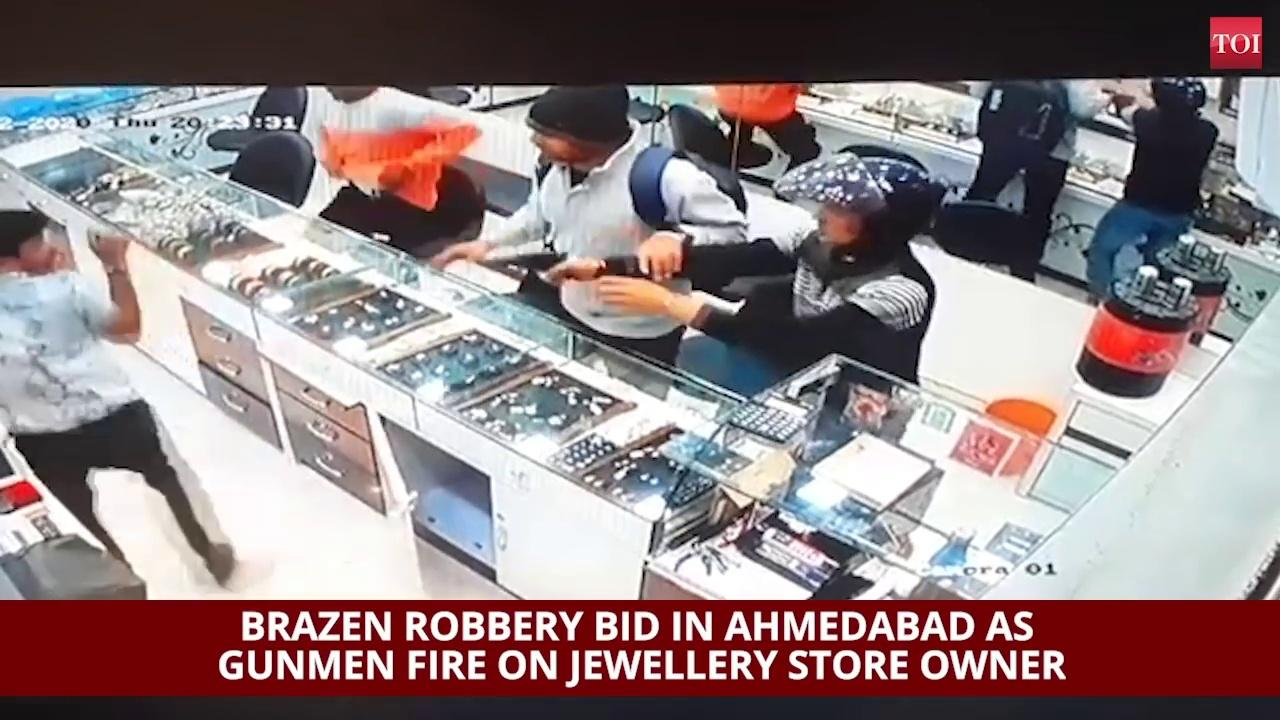weapon: (493, 248, 576, 282)
